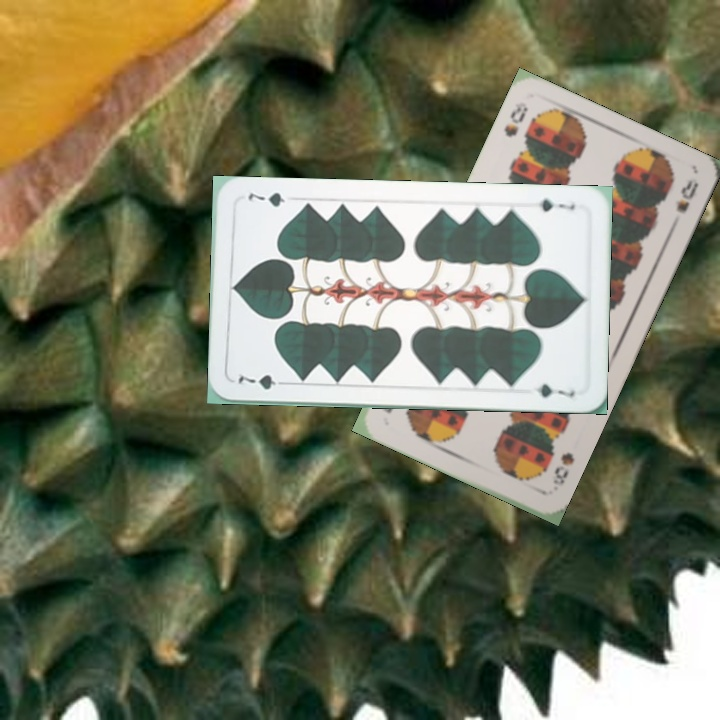G7: (234, 371, 291, 392), (527, 195, 578, 214)
S8: (500, 102, 531, 140), (549, 448, 577, 489)
